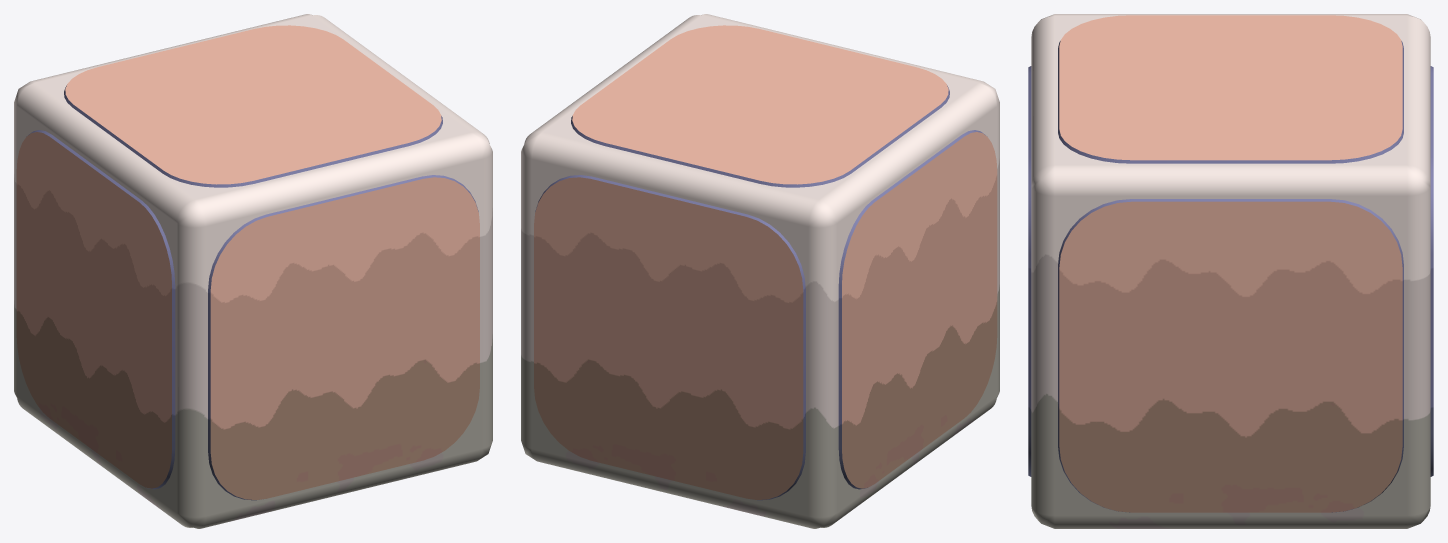
3 views of the same model, side by side, from view 1: azimuth 30°, elevation 25°; view 2: azimuth 150°, elevation 25°; view 3: azimuth 270°, elevation 25° (orthographic). The views are drawn at different scales.
Visible parts, largest first — view 1: R4B_Cube; view 2: R4B_Cube; view 3: R4B_Cube.
Part boxes in pixels (x1,y1,x2,y2): R4B_Cube: (14, 14, 492, 528); R4B_Cube: (521, 14, 999, 528); R4B_Cube: (1028, 14, 1433, 528).
Bounding box in the file's own units: 0.52 × 0.52 × 0.52.
3 materials, 3 textured.
